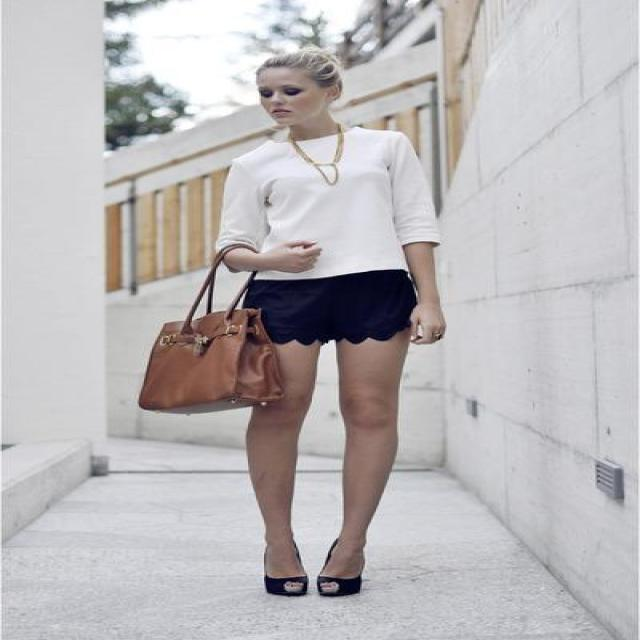bag: (138, 243, 288, 414)
shirt: (216, 127, 432, 278)
shoe: (264, 575, 310, 595)
shorts: (243, 270, 416, 344)
